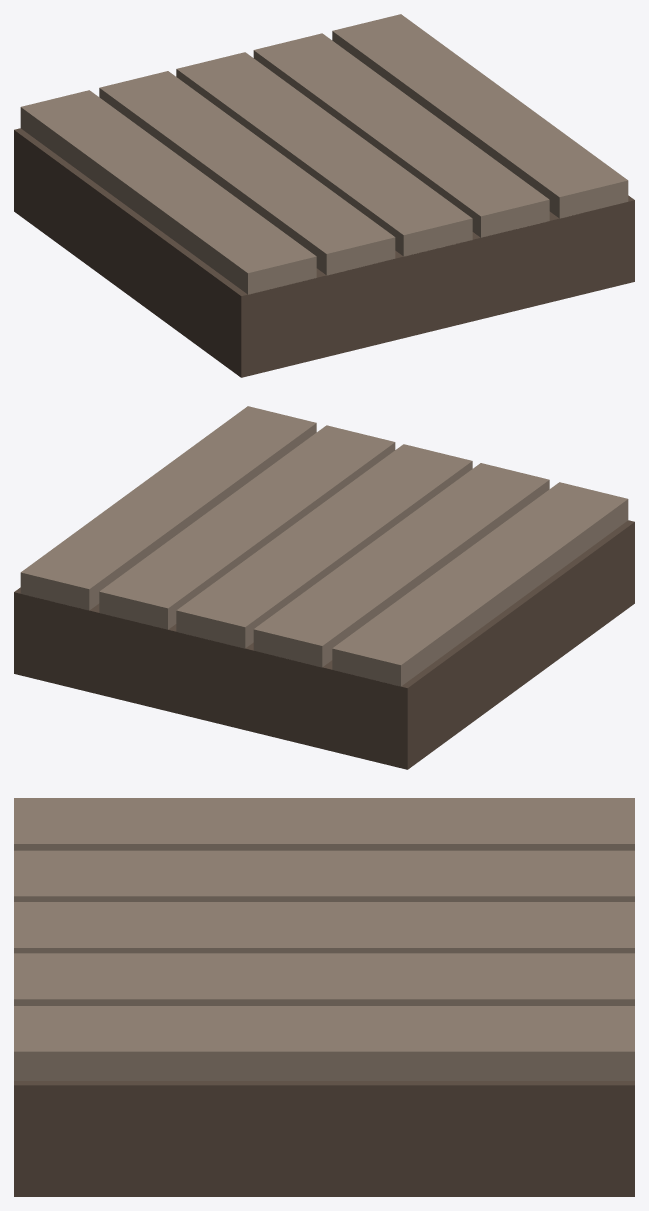
File: Floor1.fbx
3 views of the same model, one above another, from view 1: azimuth 30°, elevation 25°; view 2: azimuth 150°, elevation 25°; view 3: azimuth 270°, elevation 25° (orthographic). The views are drawn at different scales.
Visible parts, largest first — view 1: Floor1; view 2: Floor1; view 3: Floor1.
Part boxes in pixels (x1,y1,x2,y2): Floor1: [14, 14, 634, 377]; Floor1: [14, 406, 634, 769]; Floor1: [14, 798, 634, 1196].
Bounding box in the file's own units: 200 × 50 × 200.
